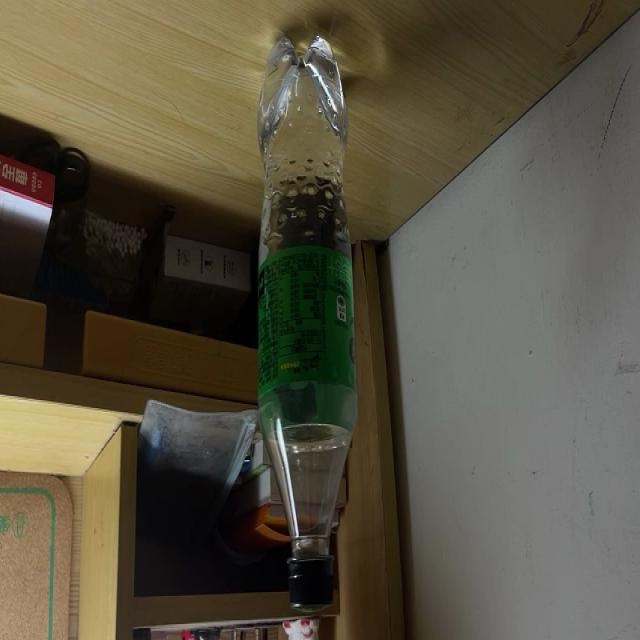Sprite: (255, 31, 358, 613)
